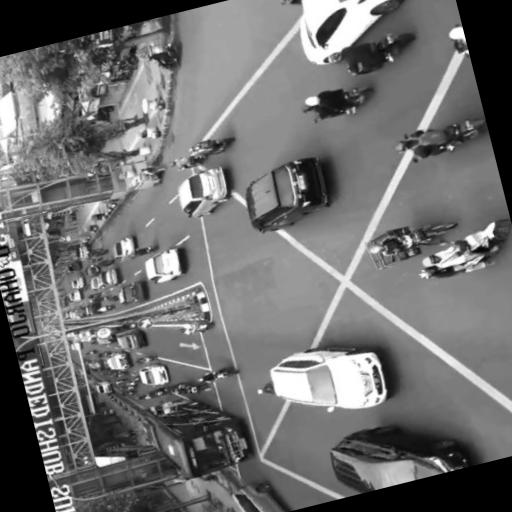bus: (136, 400, 249, 478)
car: (330, 425, 468, 493), (271, 347, 390, 411), (300, 0, 402, 64), (247, 157, 329, 233), (178, 167, 229, 218), (233, 482, 285, 511), (146, 247, 185, 283), (140, 364, 169, 385), (119, 281, 146, 303), (117, 331, 146, 350), (114, 236, 136, 261), (108, 352, 132, 370), (100, 268, 121, 286), (75, 244, 90, 260), (95, 381, 112, 394), (97, 334, 117, 345), (85, 302, 101, 315), (78, 330, 95, 342), (90, 276, 105, 289), (67, 260, 82, 273), (85, 265, 101, 277), (72, 276, 86, 289), (69, 290, 83, 302), (89, 359, 104, 370), (76, 307, 88, 318), (69, 309, 82, 319), (61, 296, 70, 308), (71, 342, 83, 350), (67, 331, 77, 337)
motorcycle: (455, 219, 511, 252), (399, 223, 458, 248), (371, 33, 415, 57), (444, 118, 486, 143), (202, 137, 235, 155), (161, 43, 180, 70), (344, 87, 374, 104), (454, 40, 469, 58), (188, 154, 207, 167), (215, 369, 239, 379), (184, 384, 210, 393), (194, 322, 214, 332), (177, 382, 192, 392), (154, 387, 168, 396), (142, 354, 157, 362), (145, 245, 158, 253), (143, 391, 155, 399), (95, 249, 108, 256), (283, 0, 302, 4), (130, 376, 141, 382), (105, 305, 115, 311), (117, 372, 129, 377), (89, 350, 98, 355), (125, 391, 134, 395)
